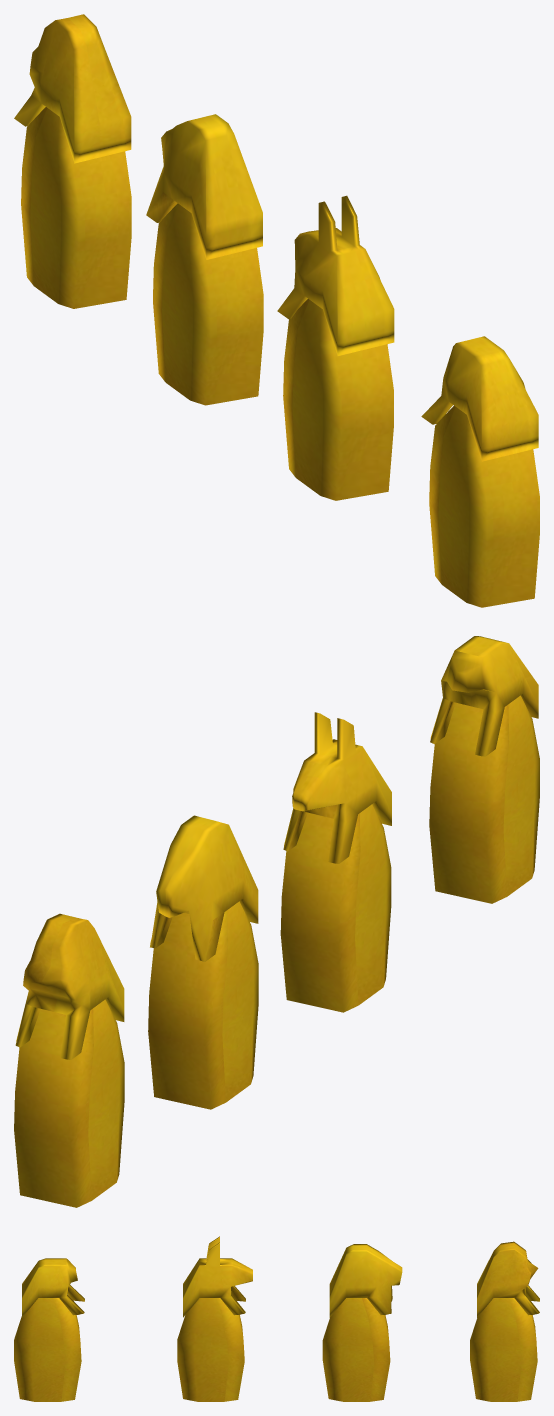
The model's file is ingredients_place.fbx.
The picture shows the model from 3 angles, top to bottom: view 1: azimuth 30°, elevation 25°; view 2: azimuth 150°, elevation 25°; view 3: azimuth 270°, elevation 25°; orthographic projection. The views are drawn at different scales.
Parts seen in each view (by area): view 1: polySurface14, polySurface5, polySurface15, polySurface10; view 2: polySurface14, polySurface5, polySurface15, polySurface10; view 3: polySurface14, polySurface5, polySurface15, polySurface10.
Part boxes in pixels (box(x1,y1,x2,y2)): polySurface14: box(146, 114, 263, 405); polySurface5: box(14, 14, 131, 308); polySurface15: box(277, 195, 394, 500); polySurface10: box(421, 336, 539, 607); polySurface14: box(148, 815, 258, 1109); polySurface5: box(14, 913, 124, 1207); polySurface15: box(280, 712, 391, 1012); polySurface10: box(429, 636, 539, 903); polySurface14: box(322, 1244, 402, 1401); polySurface5: box(470, 1241, 539, 1401); polySurface15: box(177, 1236, 252, 1401); polySurface10: box(14, 1258, 84, 1401).
Size of the model in its own units: 1 by 3.98 by 12.41.
